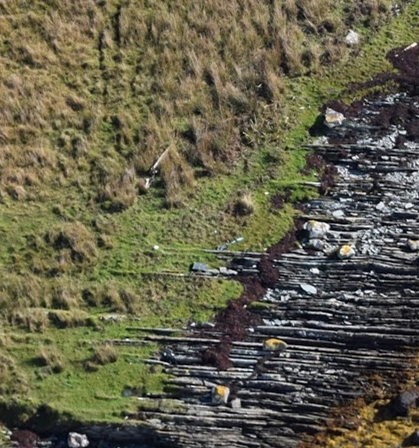tube: (144, 141, 175, 176)
white_in_green: (180, 250, 215, 282)
